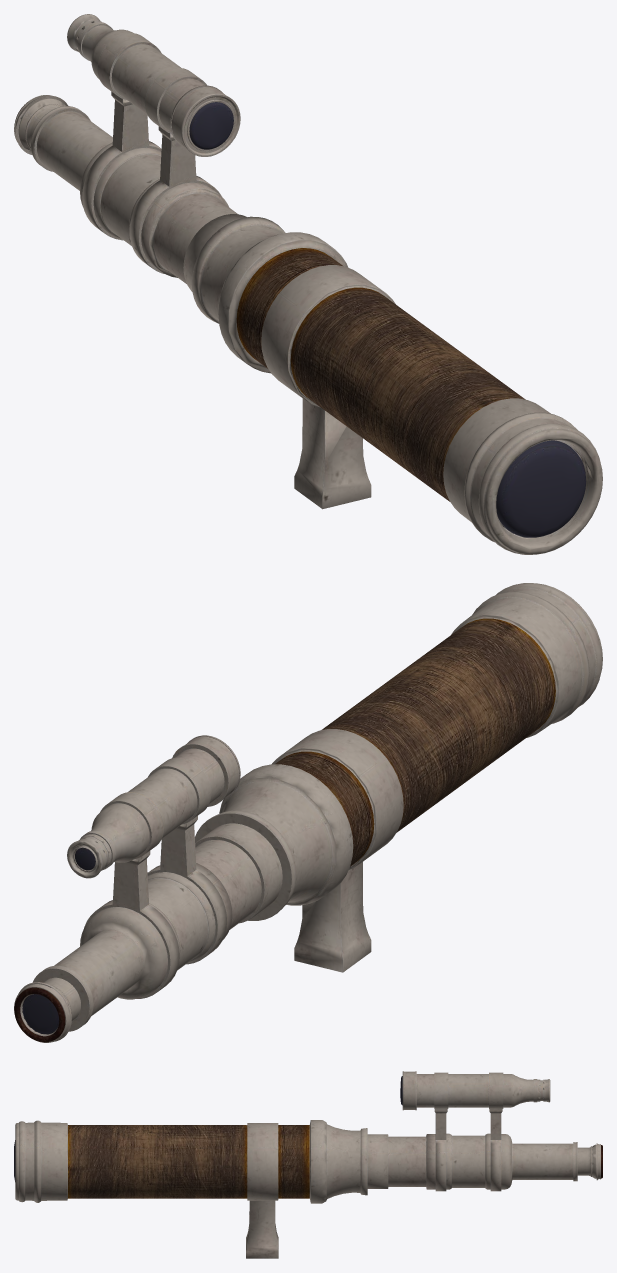
File: vintage_telescope.gltf
3 views of the same model, one above another, from view 1: azimuth 30°, elevation 25°; view 2: azimuth 150°, elevation 25°; view 3: azimuth 270°, elevation 25° (orthographic). The views are drawn at different scales.
Visible parts, largest first — view 1: Telescope_0; view 2: Telescope_0; view 3: Telescope_0.
Boxes of the visible parts, bbox=[...] form: Telescope_0: bbox=[14, 14, 602, 554]; Telescope_0: bbox=[14, 583, 602, 1042]; Telescope_0: bbox=[14, 1071, 602, 1258].
Size of the model in its own units: 0.2137 by 0.5035 by 1.5.
Materials: 1 (1 with a texture image).
